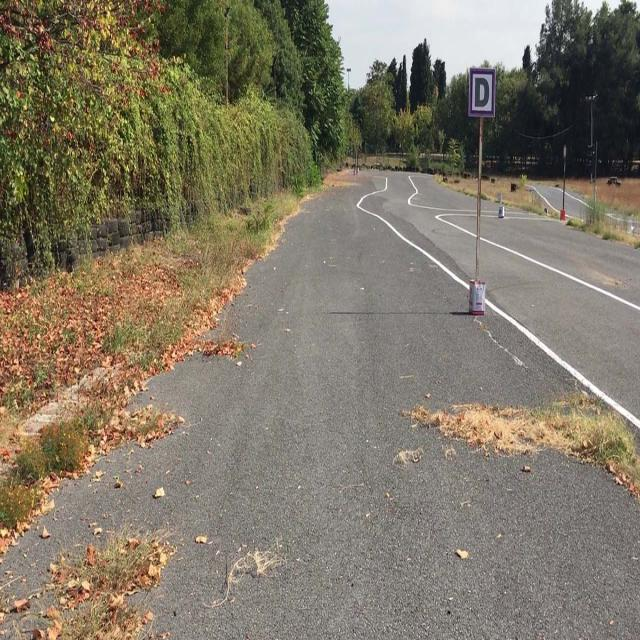durak: (470, 70, 494, 116)
